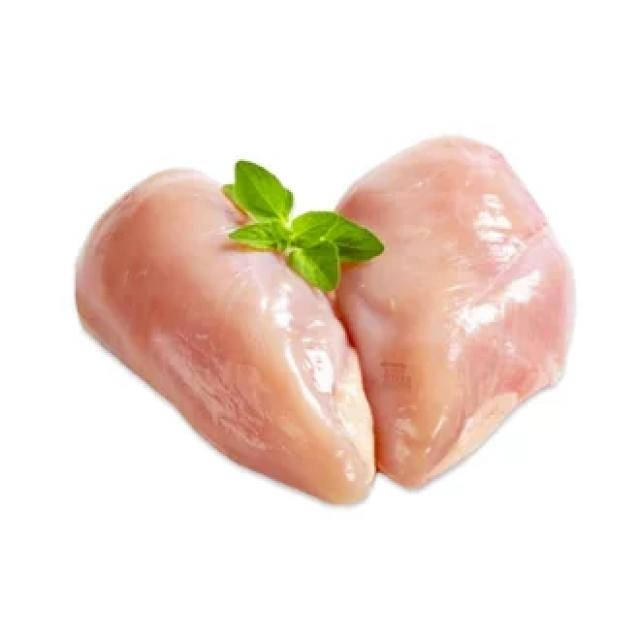chicken: (70, 128, 590, 503), (70, 167, 379, 504), (332, 133, 572, 495)
